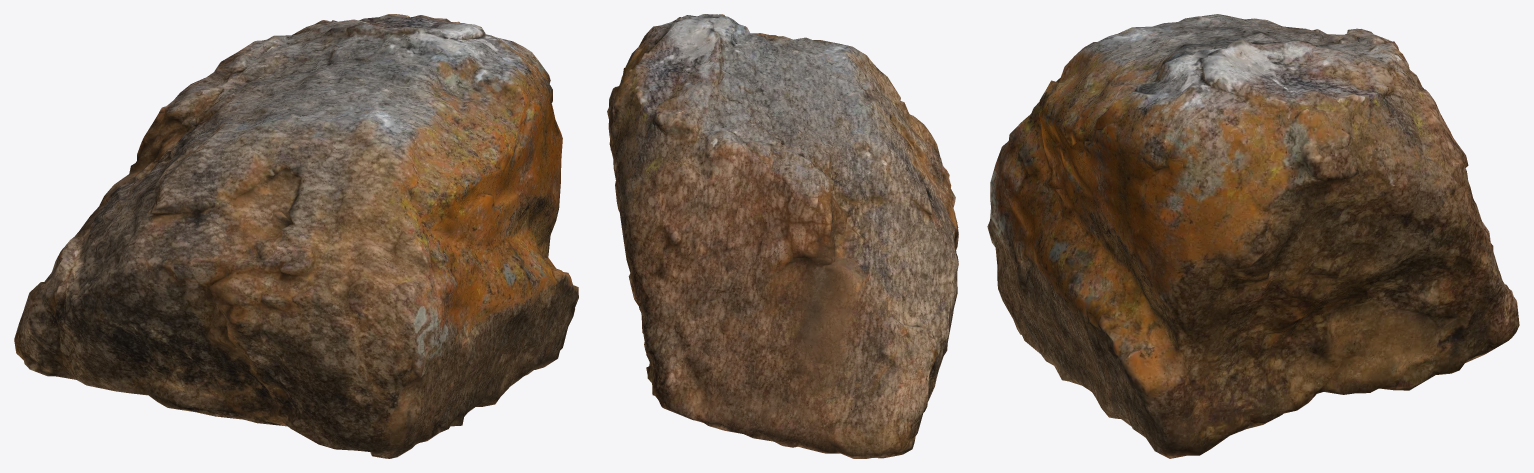
The model's file is prop-boulder4-5575b8c8.glb.
3 renders of one model, left to right at view 1: azimuth 30°, elevation 25°; view 2: azimuth 150°, elevation 25°; view 3: azimuth 270°, elevation 25°, orthographic. The views are drawn at different scales.
Visible parts, largest first — view 1: boulder_04; view 2: boulder_04; view 3: boulder_04.
Boxes of the visible parts, <box> form: boulder_04: <box>14,14,578,458</box>; boulder_04: <box>607,14,958,458</box>; boulder_04: <box>987,14,1519,458</box>.
Bounding box in the file's own units: 2.52 × 1.9 × 2.49.
1 material, 1 textured.
